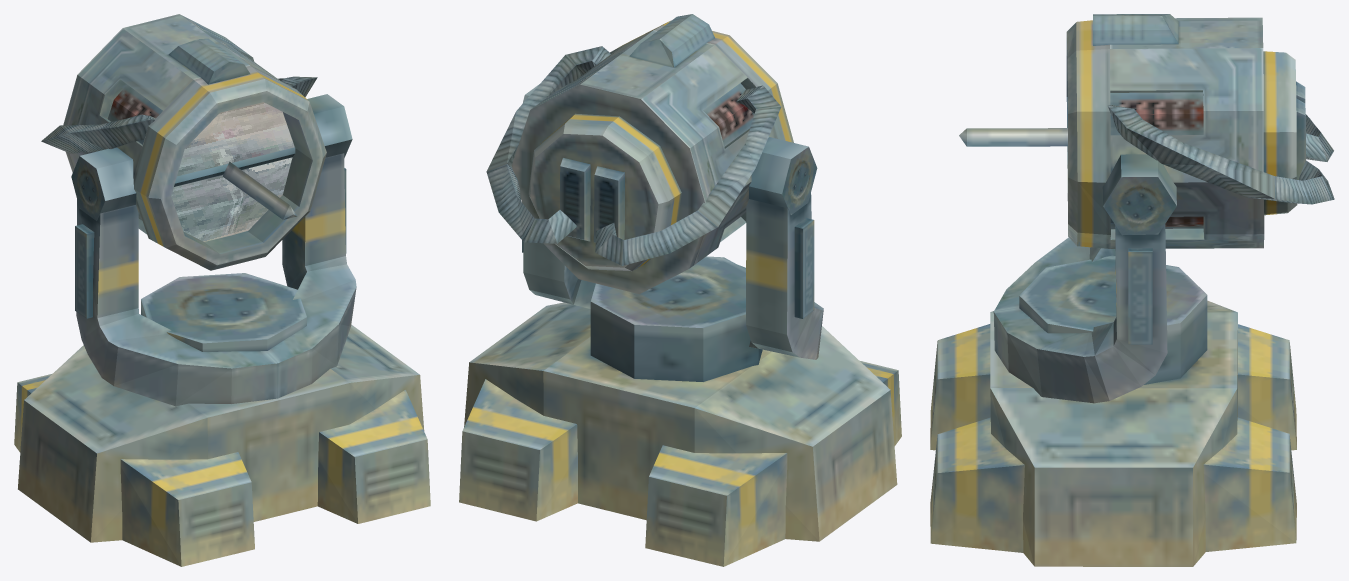
File: C2SMSEARCHL_H.obj
3 renders of one model, left to right at view 1: azimuth 30°, elevation 25°; view 2: azimuth 150°, elevation 25°; view 3: azimuth 270°, elevation 25°, orthographic. The views are drawn at different scales.
Visible parts, largest first — view 1: Node 0, Node 4, Node 3; view 2: Node 0, Node 4, Node 3; view 3: Node 0, Node 4, Node 3.
Boxes of the visible parts, left/top/right/bottom form: Node 0: left=14, top=324, right=430, bottom=566; Node 4: left=41, top=14, right=352, bottom=270; Node 3: left=75, top=153, right=356, bottom=406; Node 0: left=459, top=302, right=901, bottom=566; Node 4: left=486, top=14, right=817, bottom=294; Node 3: left=522, top=193, right=823, bottom=381; Node 0: left=930, top=300, right=1296, bottom=566; Node 4: left=959, top=14, right=1334, bottom=248; Node 3: left=993, top=224, right=1207, bottom=403.
Size of the model in its own units: 7.47 by 8.94 by 7.13.
5 materials, 5 textured.
